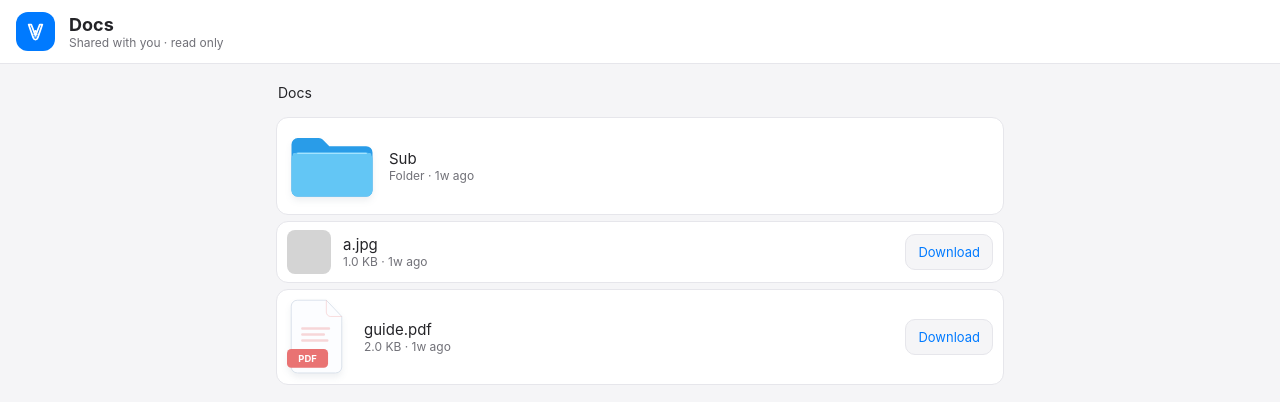
it: GuestShareView › shows the unavailable screen when a subfolder 404s mid-browse because the share itself was revoked
The width and height of the screenshot is (1280, 402).
Click the button with class "guest-open" showing "Sub Folder · 1w ago": {"x": 332, "y": 166} [287,126,993,206]
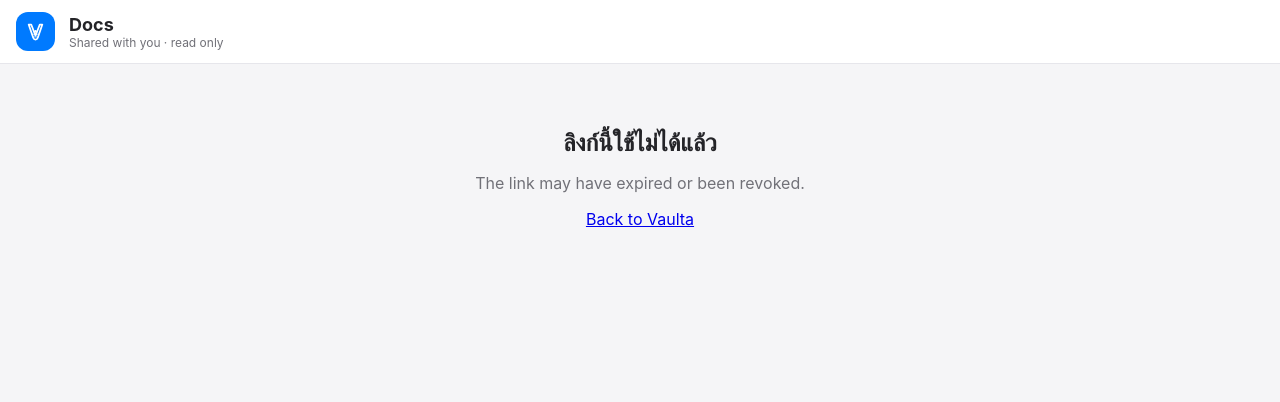
Expected: the text "ลิงก์นี้ใช้ไม่ได้แล้ว" is shown, [563,128,717,157]
